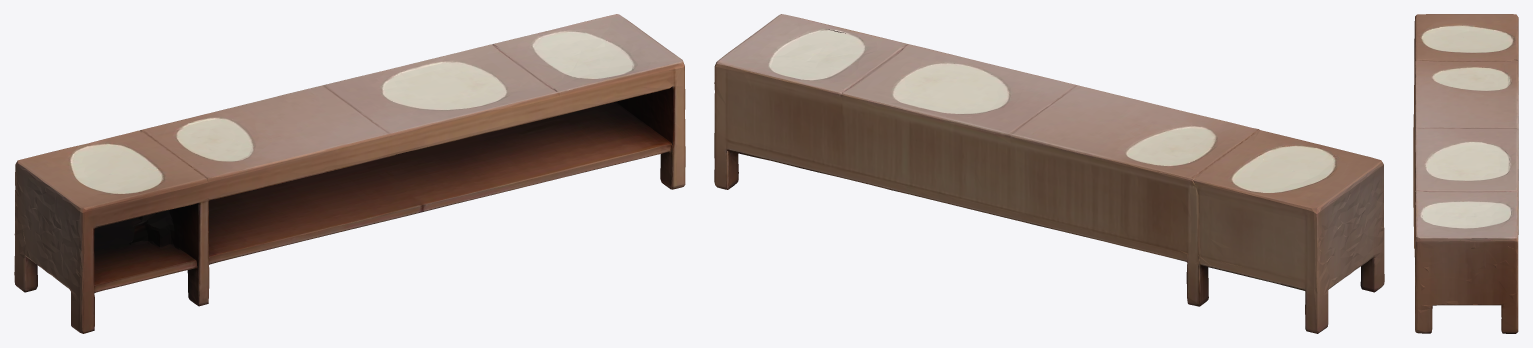
Rendered from ast_d6becd14a3ca.glb.
3 renders of one model, left to right at view 1: azimuth 30°, elevation 25°; view 2: azimuth 150°, elevation 25°; view 3: azimuth 270°, elevation 25°, orthographic. The views are drawn at different scales.
Visible parts, largest first — view 1: geometry_0; view 2: geometry_0; view 3: geometry_0.
Boxes of the visible parts, left/top/right/bottom form: geometry_0: left=14, top=14, right=685, bottom=333; geometry_0: left=714, top=14, right=1384, bottom=333; geometry_0: left=1413, top=14, right=1518, bottom=333.
Bounding box in the file's own units: 1 × 0.2021 × 0.198.
Materials: 1 (1 with a texture image).
